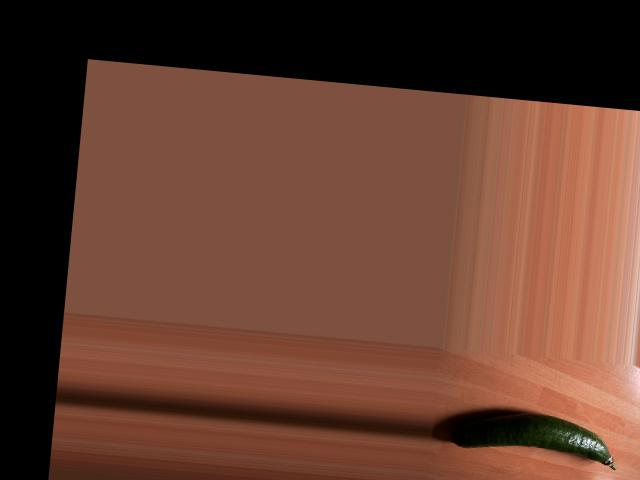cucumber: (447, 404, 621, 469)
